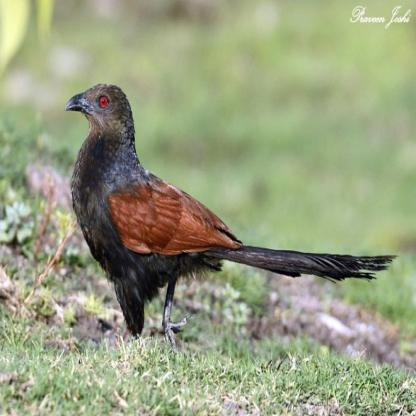Burung: (64, 83, 398, 344)
